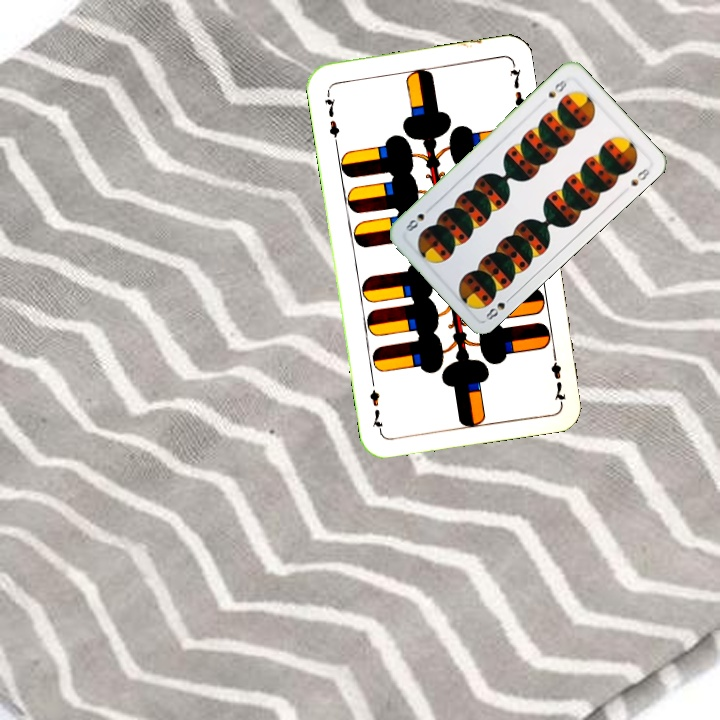E7: (547, 346, 569, 405), (321, 87, 342, 146)
S8: (481, 291, 516, 323), (544, 73, 570, 100)
